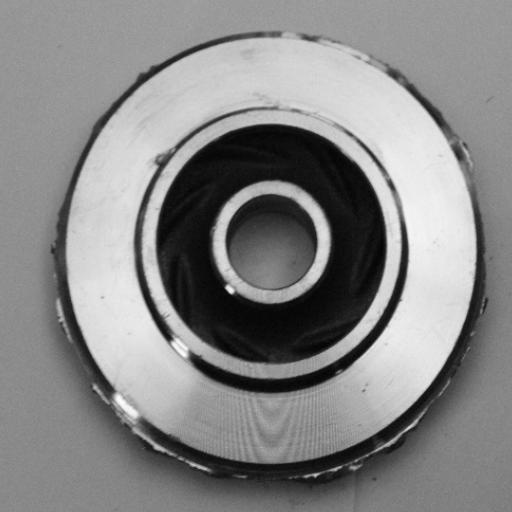casting_with_burr: (47, 26, 488, 487)
crack: (146, 141, 186, 178)
scratch: (268, 97, 353, 132), (162, 320, 201, 373)
